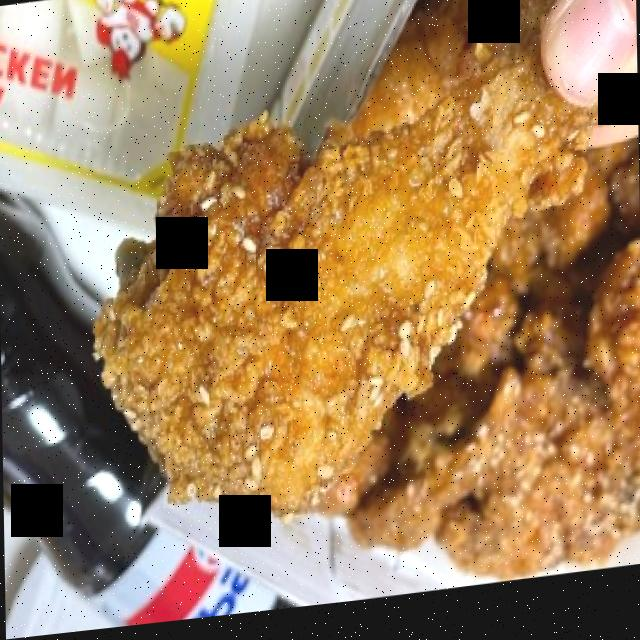Frango: (103, 0, 640, 586)
